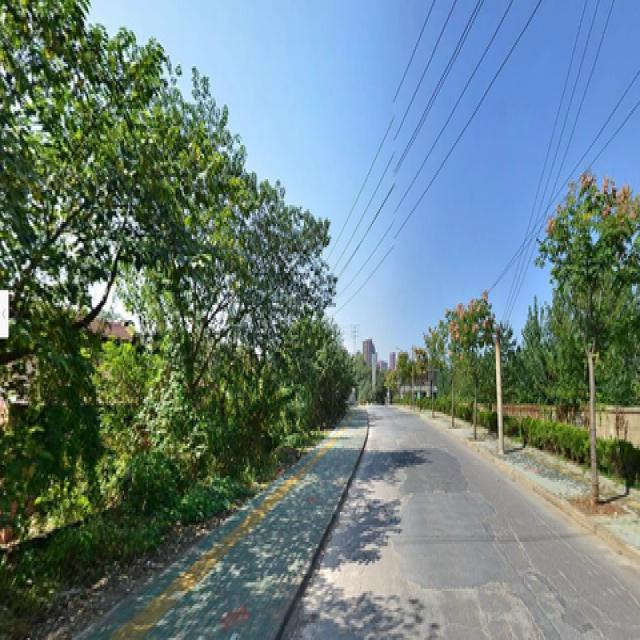koel: (545, 198, 627, 510), (451, 294, 489, 424)
